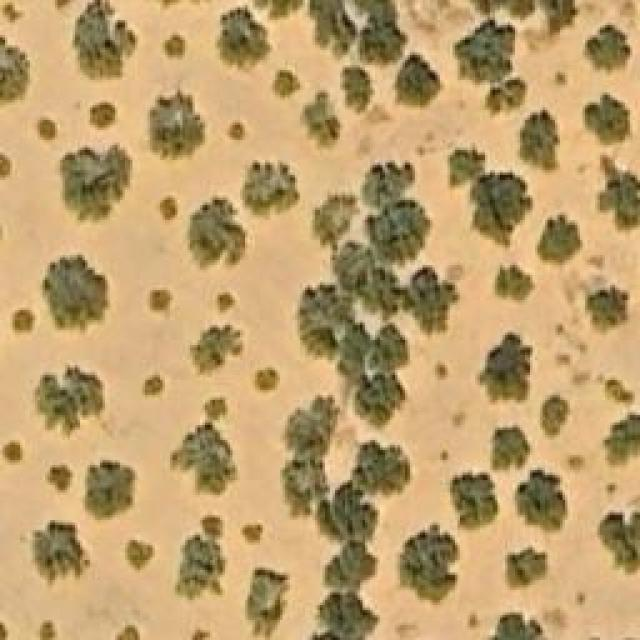Tree: (450, 145, 533, 245), (453, 20, 528, 115), (57, 145, 135, 225), (42, 253, 110, 336), (395, 523, 460, 603), (33, 365, 103, 438), (73, 0, 136, 78), (185, 195, 245, 273), (170, 425, 235, 495), (175, 515, 225, 603), (215, 5, 273, 75), (595, 147, 640, 235), (32, 520, 90, 588), (478, 333, 533, 403), (150, 90, 205, 158), (513, 470, 568, 533), (363, 203, 426, 258), (518, 108, 563, 181), (245, 567, 290, 640), (283, 393, 336, 453), (448, 473, 498, 536), (242, 163, 300, 216), (85, 462, 135, 520), (303, 288, 343, 358), (583, 93, 633, 148), (190, 325, 245, 375), (597, 512, 640, 575), (310, 190, 353, 253), (358, 370, 408, 423), (360, 158, 418, 203), (352, 445, 400, 498), (280, 455, 325, 510), (310, 0, 357, 52), (585, 25, 633, 75), (410, 273, 450, 333), (398, 53, 443, 106), (300, 92, 340, 150), (602, 410, 640, 468), (0, 38, 30, 108), (488, 612, 561, 640), (323, 545, 368, 590), (332, 488, 370, 541), (490, 423, 530, 473), (505, 545, 548, 590), (360, 23, 403, 66), (540, 215, 580, 258), (323, 598, 363, 638), (375, 325, 410, 370), (495, 265, 535, 303), (343, 65, 373, 113), (540, 392, 570, 440), (588, 288, 628, 323), (158, 33, 193, 66), (125, 540, 153, 575), (13, 300, 36, 335), (90, 102, 118, 130), (198, 395, 228, 420), (275, 70, 300, 98), (48, 465, 73, 493), (148, 290, 173, 318), (252, 368, 280, 393), (140, 373, 165, 398), (35, 118, 58, 143), (3, 440, 26, 465), (0, 3, 25, 23), (158, 198, 178, 223), (227, 120, 245, 143), (217, 293, 235, 316), (38, 620, 58, 640), (115, 625, 140, 640), (243, 525, 263, 540)
